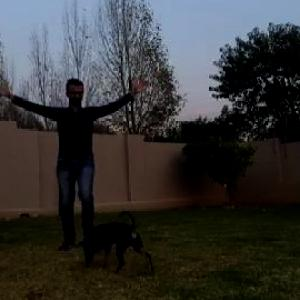takeoff: (1, 63, 152, 261)
